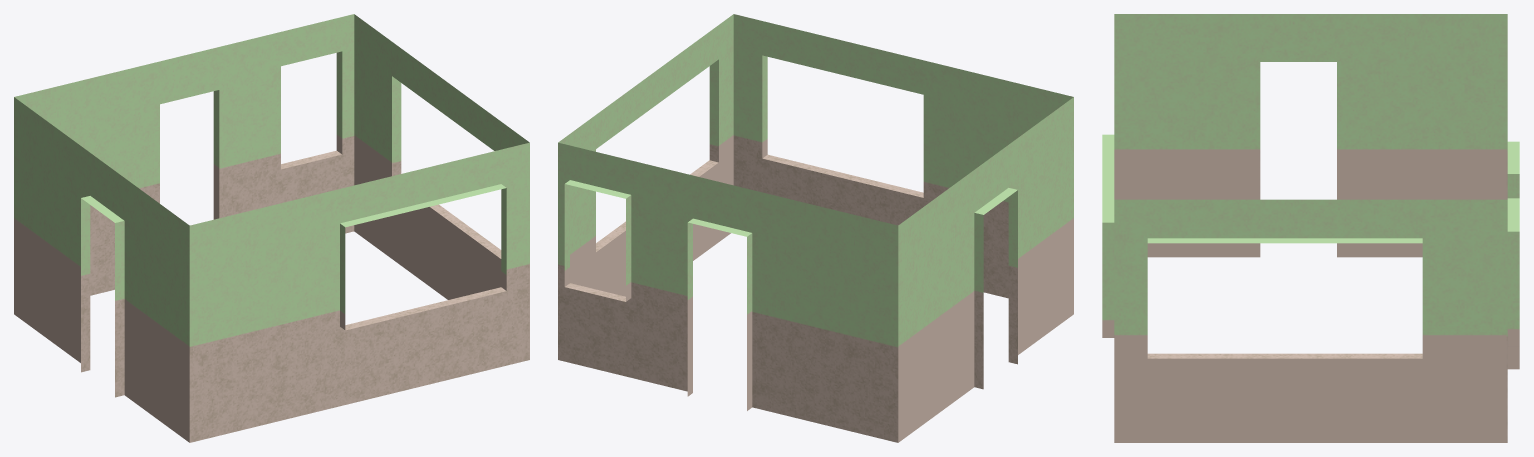
The model's file is dining-room_0_0.wall.glb.
3 views of the same model, side by side, from view 1: azimuth 30°, elevation 25°; view 2: azimuth 150°, elevation 25°; view 3: azimuth 270°, elevation 25° (orthographic). The views are drawn at different scales.
Parts seen in each view (by area): view 1: dining-room_0/0.wall.001; view 2: dining-room_0/0.wall.001; view 3: dining-room_0/0.wall.001.
Boxes of the visible parts, x1=… form: dining-room_0/0.wall.001: x1=14, y1=14, x2=529, y2=442; dining-room_0/0.wall.001: x1=558, y1=14, x2=1073, y2=442; dining-room_0/0.wall.001: x1=1102, y1=14, x2=1519, y2=442.
Bounding box in the file's own units: 5 × 2.89 × 4.5.
Materials: 1 (1 with a texture image).
